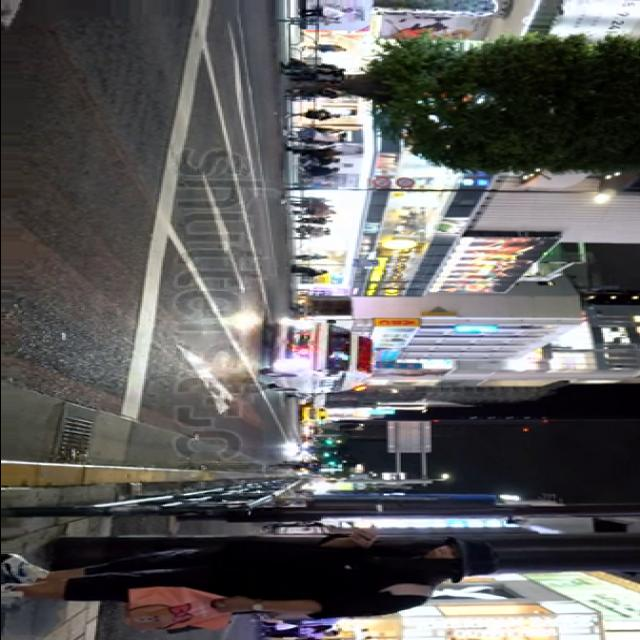ambulance: (259, 313, 377, 397)
